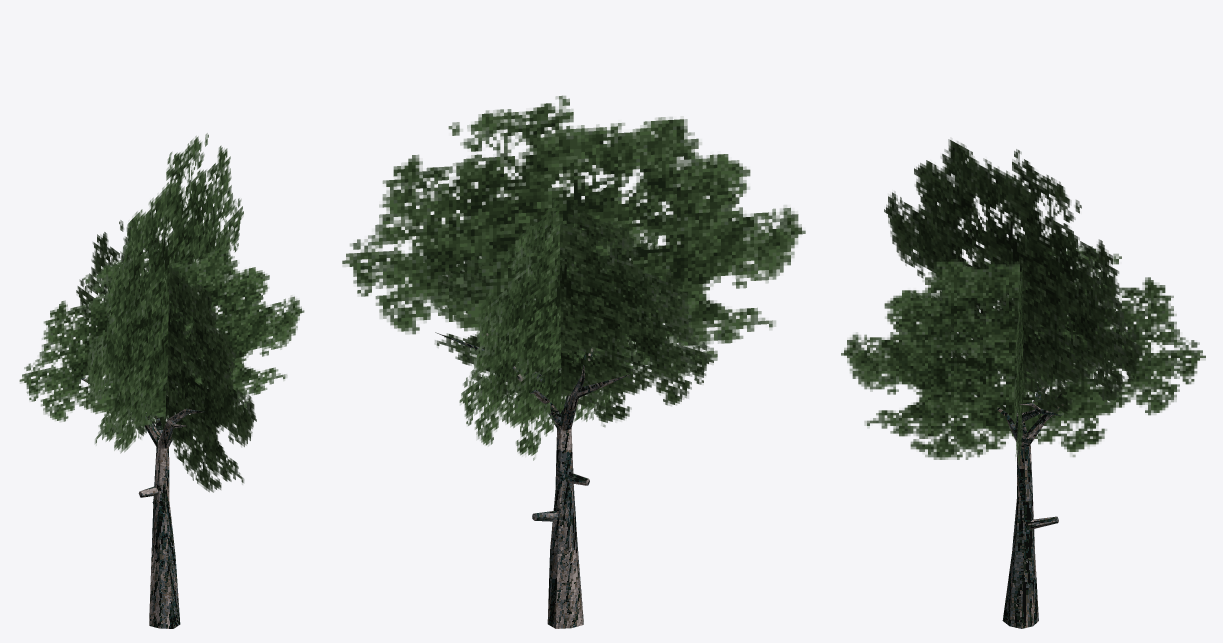
The model's file is Tree01.glb.
3 renders of one model, left to right at view 1: azimuth 30°, elevation 25°; view 2: azimuth 150°, elevation 25°; view 3: azimuth 270°, elevation 25°, orthographic. The views are drawn at different scales.
Parts seen in each view (by area): view 1: leavesREAL2.002, Cube-col; view 2: leavesREAL2.002, Cube-col; view 3: leavesREAL2.002, Cube-col.
Boxes of the visible parts, bbox=[...] form: leavesREAL2.002: bbox=[19, 133, 304, 492]; Cube-col: bbox=[81, 378, 204, 628]; leavesREAL2.002: bbox=[342, 95, 805, 460]; Cube-col: bbox=[435, 332, 629, 628]; leavesREAL2.002: bbox=[841, 139, 1205, 465]; Cube-col: bbox=[975, 386, 1064, 628].
Bounding box in the file's own units: 24.55 × 42.25 × 26.54.
Materials: 2 (2 with a texture image).
